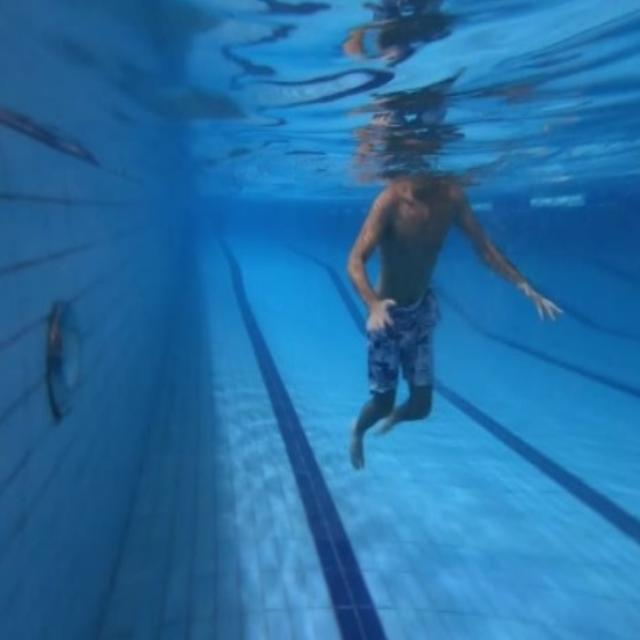Swimming: (345, 178, 567, 475)
